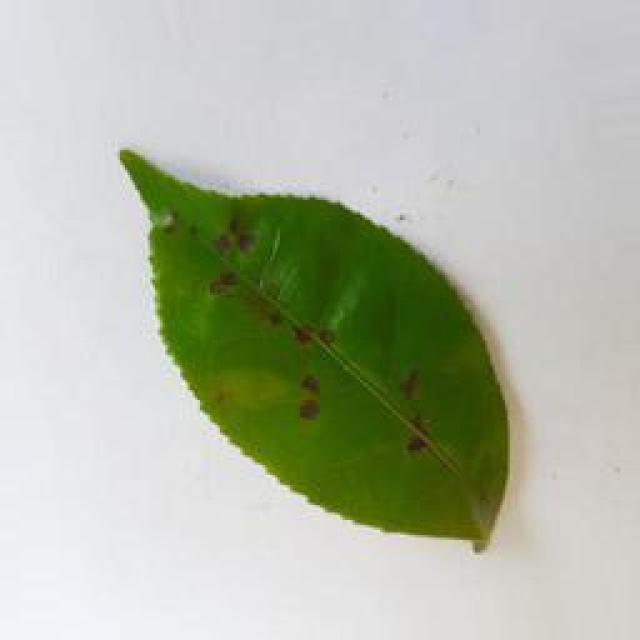Helopeltis: (114, 141, 516, 560)
